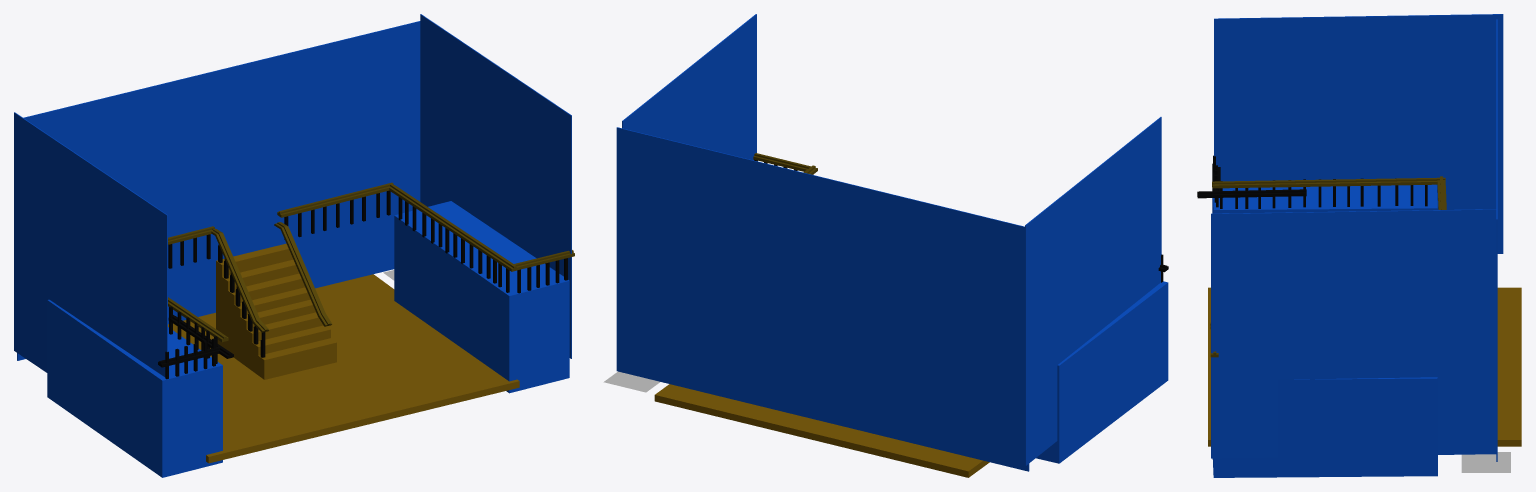
File: casa_2.gltf
3 views of the same model, side by side, from view 1: azimuth 30°, elevation 25°; view 2: azimuth 150°, elevation 25°; view 3: azimuth 270°, elevation 25° (orthographic).
Visible parts, largest first — view 1: pasted__casa group3 pasted__pCube84, pasted__casa group3 pasted__pCube86, pasted__casa group3 pasted__pCube83, pasted__casa group3 pasted__pCube85, pasted__casa group3 pasted__pCube5, pasted__casa group3 pasted__pCube52, pasted__casa group3 pasted__pCube3, pasted__casa group3 pasted__pCube78, pasted__casa group3 pasted__pCube82, pasted__casa group3 pasted__pCube81, pasted__casa group3 pasted__pCube77; view 2: pasted__casa group3 pasted__pCube84, pasted__casa group3 pasted__pCube86, pasted__casa group3 pasted__pCube52, pasted__casa group3 pasted__pCube85, pasted__casa group3 pasted__pCube83, Eduardo1:pPlane1 pasted__casa group3; view 3: pasted__casa group3 pasted__pCube85, pasted__casa group3 pasted__pCube86, pasted__casa group3 pasted__pCube5, pasted__casa group3 pasted__pCube52, pasted__casa group3 pasted__pCube83, pasted__casa group3 pasted__pCube76, Eduardo1:pPlane1 pasted__casa group3, pasted__casa group3 pasted__pCube84, pasted__casa group3 pasted__pCube75.
Part boxes in pixels (x1,y1,x2,y2): pasted__casa group3 pasted__pCube84: (17, 21, 420, 360); pasted__casa group3 pasted__pCube86: (14, 112, 167, 376); pasted__casa group3 pasted__pCube83: (168, 274, 519, 463); pasted__casa group3 pasted__pCube85: (420, 14, 571, 358); pasted__casa group3 pasted__pCube5: (394, 201, 569, 393); pasted__casa group3 pasted__pCube52: (47, 299, 222, 477); pasted__casa group3 pasted__pCube3: (216, 243, 336, 379); pasted__casa group3 pasted__pCube78: (388, 184, 518, 271); pasted__casa group3 pasted__pCube82: (274, 222, 331, 326); pasted__casa group3 pasted__pCube81: (211, 228, 269, 332); pasted__casa group3 pasted__pCube77: (277, 182, 393, 217); pasted__casa group3 pasted__pCube84: (616, 127, 1029, 471); pasted__casa group3 pasted__pCube86: (1025, 117, 1161, 465); pasted__casa group3 pasted__pCube52: (1036, 281, 1168, 463); pasted__casa group3 pasted__pCube85: (622, 14, 756, 160); pasted__casa group3 pasted__pCube83: (654, 384, 989, 477); Eduardo1:pPlane1 pasted__casa group3: (603, 371, 659, 392); pasted__casa group3 pasted__pCube85: (1211, 209, 1496, 458); pasted__casa group3 pasted__pCube86: (1214, 14, 1503, 253); pasted__casa group3 pasted__pCube5: (1212, 377, 1437, 477); pasted__casa group3 pasted__pCube52: (1212, 184, 1437, 213); pasted__casa group3 pasted__pCube83: (1208, 287, 1521, 446); pasted__casa group3 pasted__pCube76: (1212, 177, 1445, 188); Eduardo1:pPlane1 pasted__casa group3: (1461, 452, 1510, 472); pasted__casa group3 pasted__pCube84: (1496, 19, 1497, 461); pasted__casa group3 pasted__pCube75: (1197, 189, 1306, 198).
Size of the model in its own units: 2139 by 1294 by 1438.
